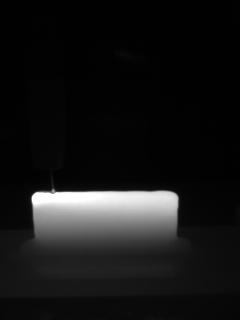tip_wire_left: (34, 165, 54, 192)
tip_wire_right: (52, 164, 65, 193)
